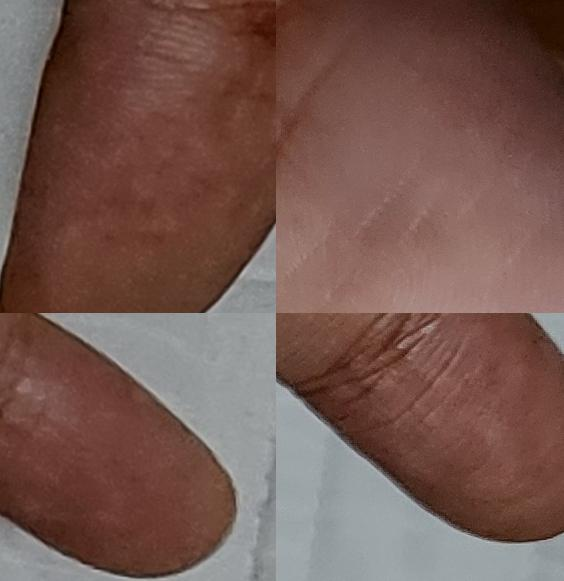Fingerprints: (276, 0, 564, 313), (0, 0, 276, 313), (0, 313, 237, 578), (320, 313, 564, 544)
